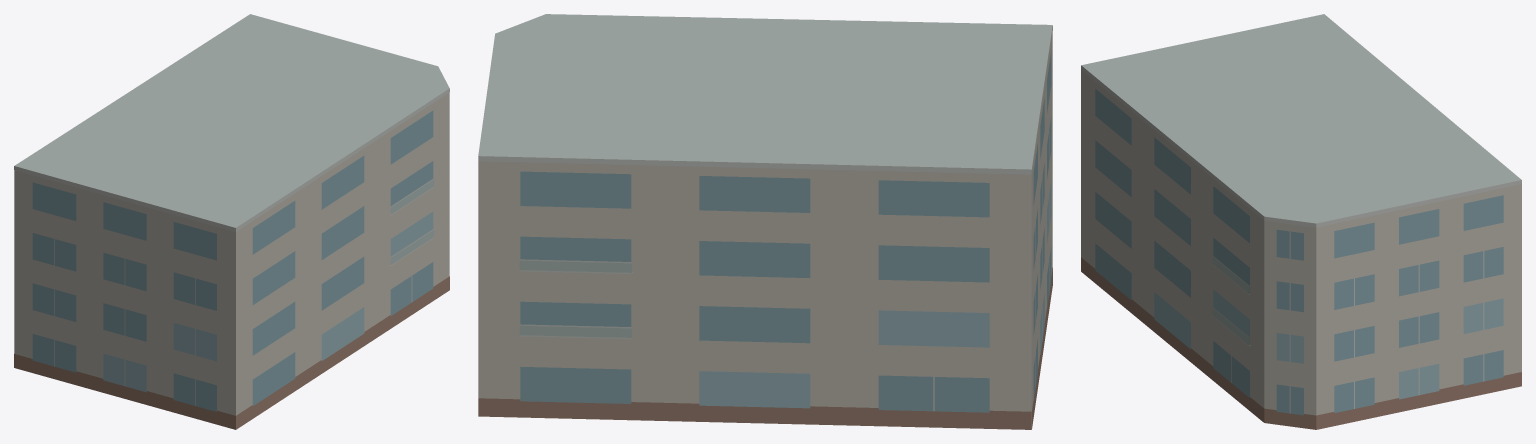
File: survey-upis-32827569.glb
3 renders of one model, left to right at view 1: azimuth 30°, elevation 25°; view 2: azimuth 150°, elevation 25°; view 3: azimuth 270°, elevation 25°, orthographic. The views are drawn at different scales.
Parts seen in each view (by area): view 1: survey-upis-32827569.tmp; view 2: survey-upis-32827569.tmp; view 3: survey-upis-32827569.tmp.
Boxes of the visible parts, left/top/right/bottom form: survey-upis-32827569.tmp: left=14, top=14, right=449, bottom=429; survey-upis-32827569.tmp: left=478, top=14, right=1052, bottom=429; survey-upis-32827569.tmp: left=1081, top=14, right=1521, bottom=429.
Size of the model in its own units: 26.57 by 12.2 by 23.62.
